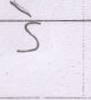e_matra: (10, 0, 35, 19)
